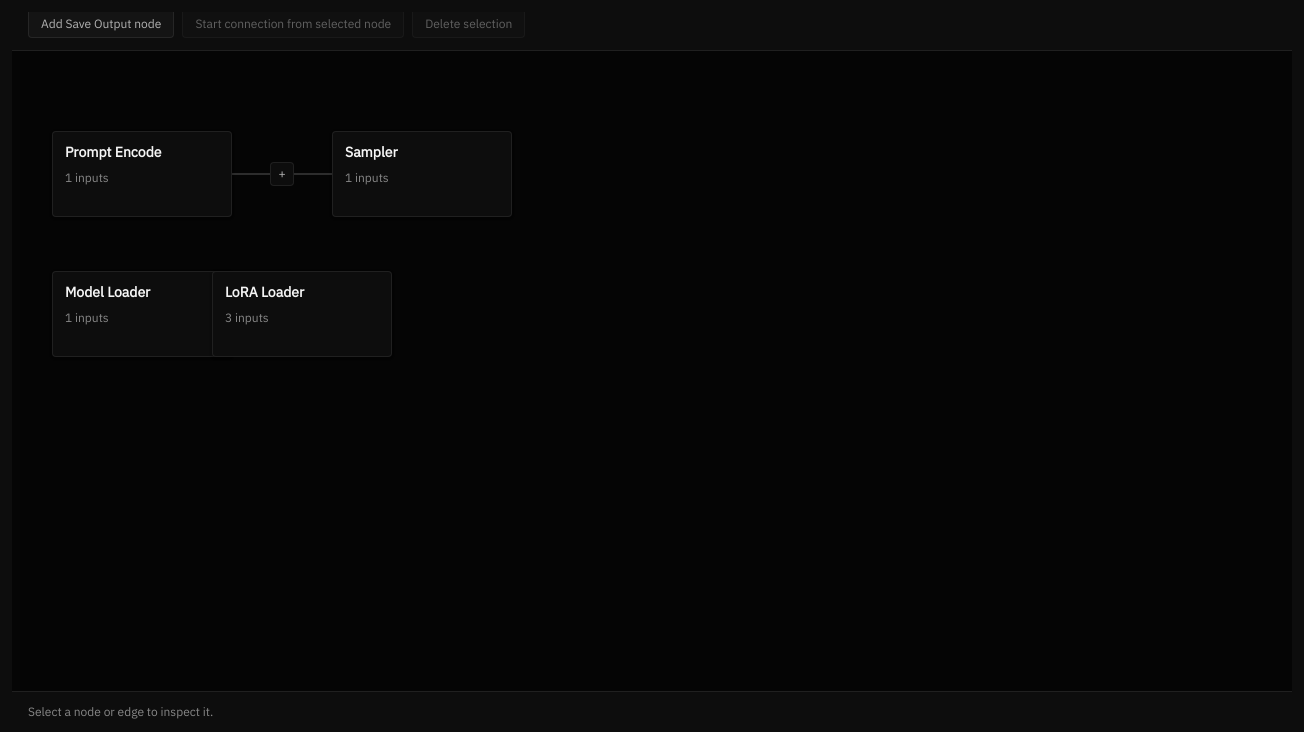
Test: WorkflowGraphEditor › LoRA Loader inspector (#43) › explains the empty state when no LoRAs are installed
The image size is (1304, 732).
(page scrolled)
Click the button with aria-label "LoRA Loader node". click: (302, 314)
box: [212, 271, 392, 357]
(page scrolled)
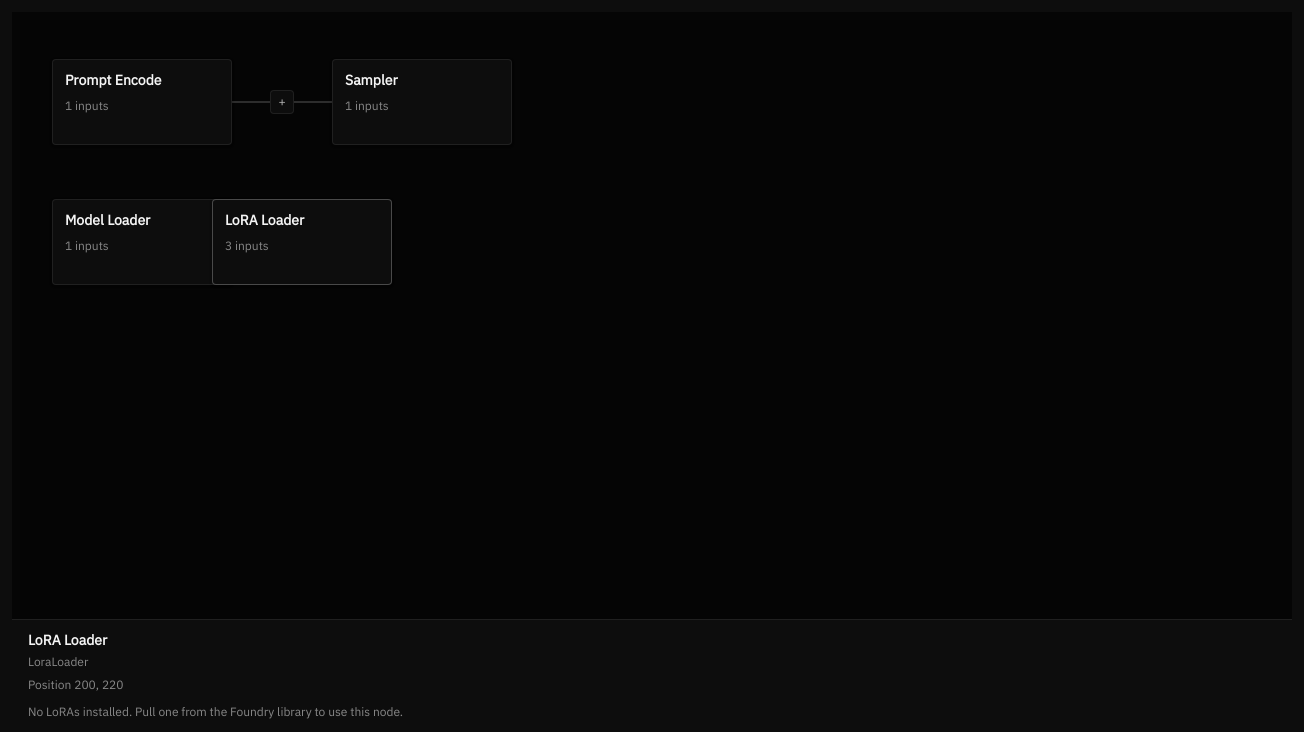
Now the text "No LoRAs installed" is shown, box [28, 704, 403, 720]
